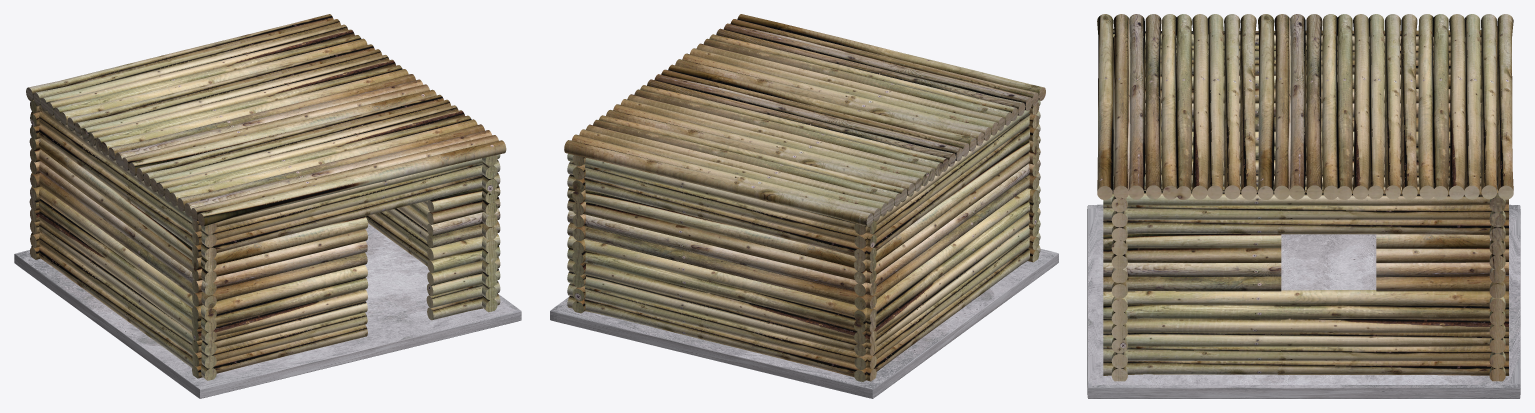
Rendered from cabin.glb.
3 views of the same model, side by side, from view 1: azimuth 30°, elevation 25°; view 2: azimuth 150°, elevation 25°; view 3: azimuth 270°, elevation 25° (orthographic). The views are drawn at different scales.
Visible parts, largest first — view 1: Circle.001, Circle.004, Circle.003, Cube, Circle.002, Circle.005; view 2: Circle.001, Circle.005, Circle.003, Cube, Circle.002, Circle.004; view 3: Circle.001, Circle.002, Cube, Circle.003, Circle.004, Circle.005.
Boxes of the visible parts, bbox=[...] form: Circle.001: bbox=[26, 14, 506, 226]; Circle.004: bbox=[192, 154, 500, 378]; Circle.003: bbox=[30, 105, 216, 380]; Cube: bbox=[14, 223, 521, 398]; Circle.002: bbox=[365, 155, 497, 312]; Circle.005: bbox=[29, 100, 40, 259]; Circle.001: bbox=[564, 14, 1045, 226]; Circle.005: bbox=[567, 153, 876, 381]; Circle.003: bbox=[854, 100, 1040, 381]; Cube: bbox=[550, 249, 1058, 398]; Circle.002: bbox=[572, 155, 586, 313]; Circle.004: bbox=[1028, 102, 1039, 262]; Circle.001: bbox=[1097, 14, 1513, 199]; Circle.002: bbox=[1103, 189, 1508, 375]; Cube: bbox=[1087, 204, 1520, 398]; Circle.003: bbox=[1113, 30, 1497, 190]; Circle.004: bbox=[1111, 28, 1127, 381]; Circle.005: bbox=[1489, 26, 1505, 381].
Bounding box in the file's own units: 21.05 × 11.14 × 21.05.
Materials: 2 (2 with a texture image).
